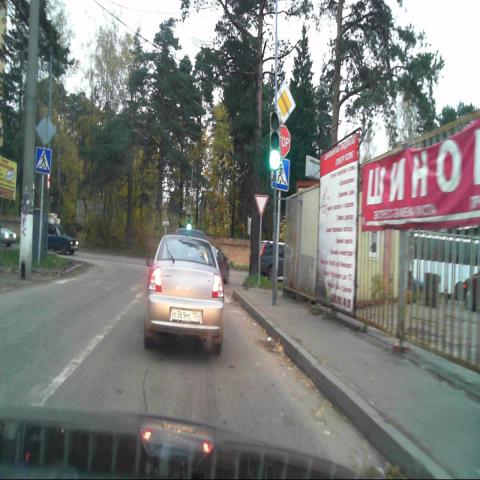2_2: (272, 83, 296, 125)
